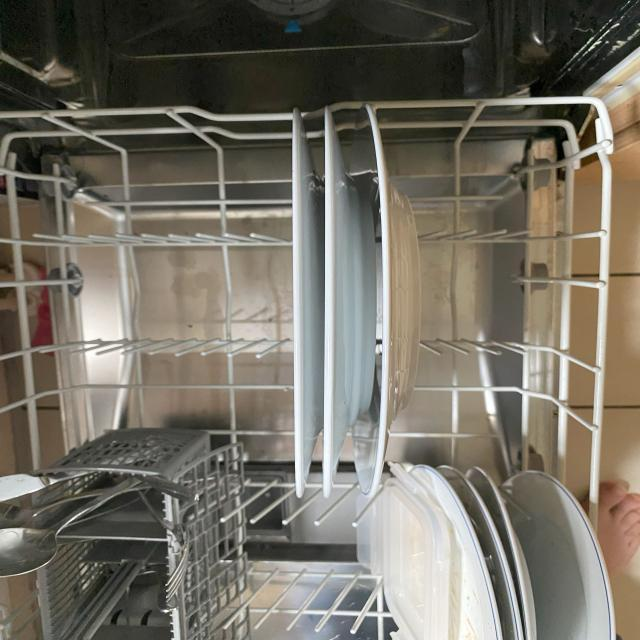clutery_bin: (23, 473, 181, 640)
empty_slot: (16, 133, 294, 430), (416, 119, 586, 472), (207, 481, 391, 637)
